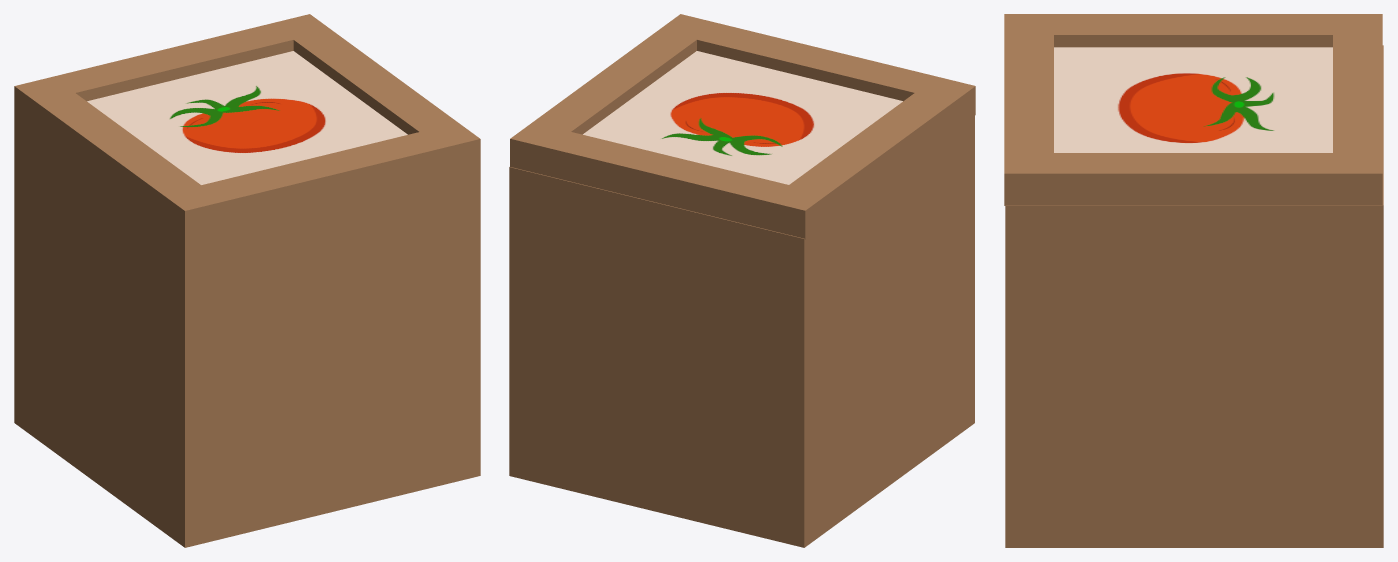
File: tomato close static.fbx
The picture shows the model from 3 angles, left to right: view 1: azimuth 30°, elevation 25°; view 2: azimuth 150°, elevation 25°; view 3: azimuth 270°, elevation 25°; orthographic projection. The views are drawn at different scales.
Parts seen in each view (by area): view 1: Cube, Cube.001; view 2: Cube, Cube.001; view 3: Cube, Cube.001.
Part boxes in pixels (x1,y1,x2,y2): Cube: [14, 115, 480, 547]; Cube.001: [14, 14, 480, 239]; Cube: [509, 116, 974, 547]; Cube.001: [510, 14, 975, 239]; Cube: [1005, 45, 1383, 547]; Cube.001: [1004, 14, 1382, 205].
Size of the model in its own units: 200 by 218 by 201.
